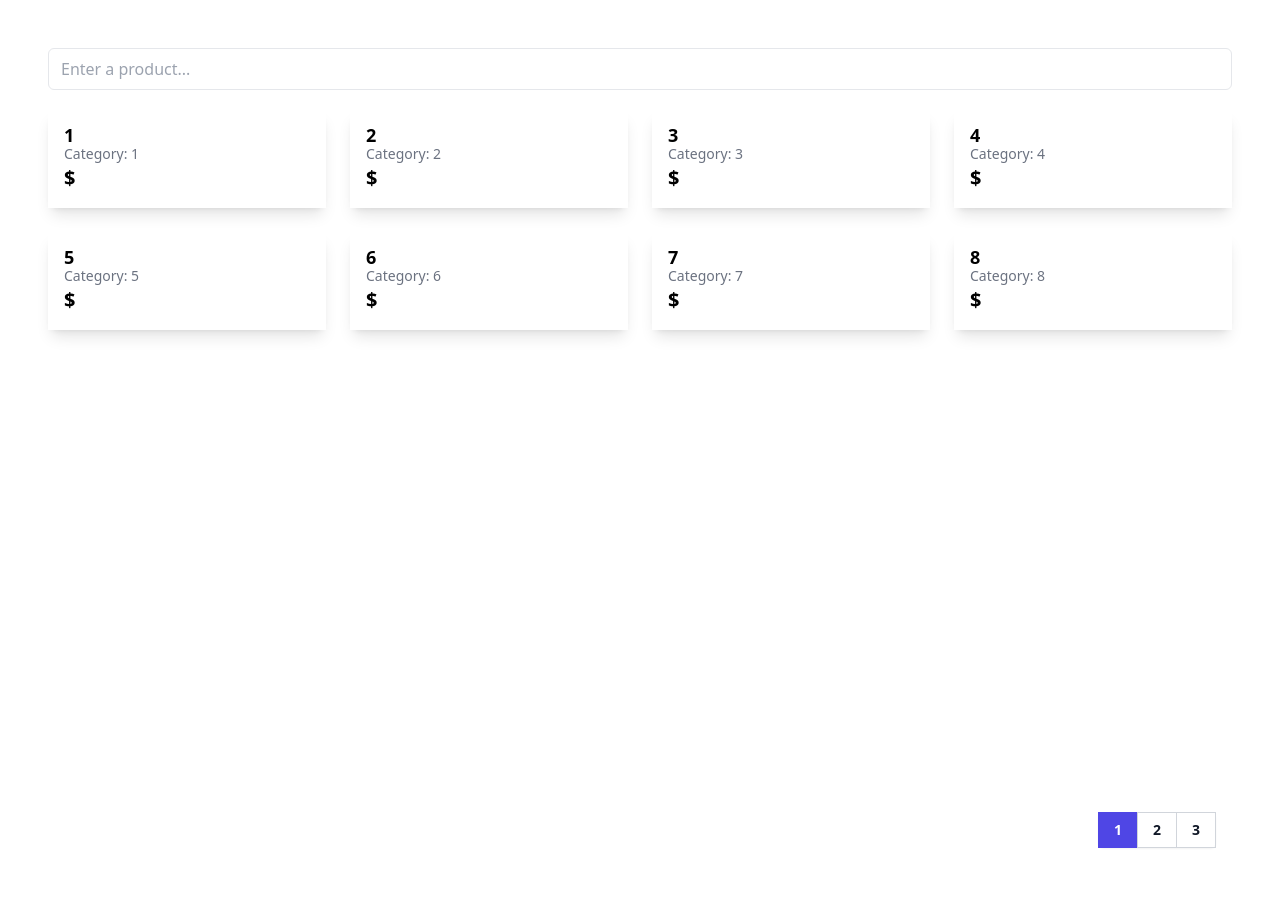
Test: homepage › click on the specific page will change displayed values
The image size is (1280, 900).
Click the button with test id "pagination-number-2" at (1157, 830), box left=1137, top=812, right=1177, bottom=848
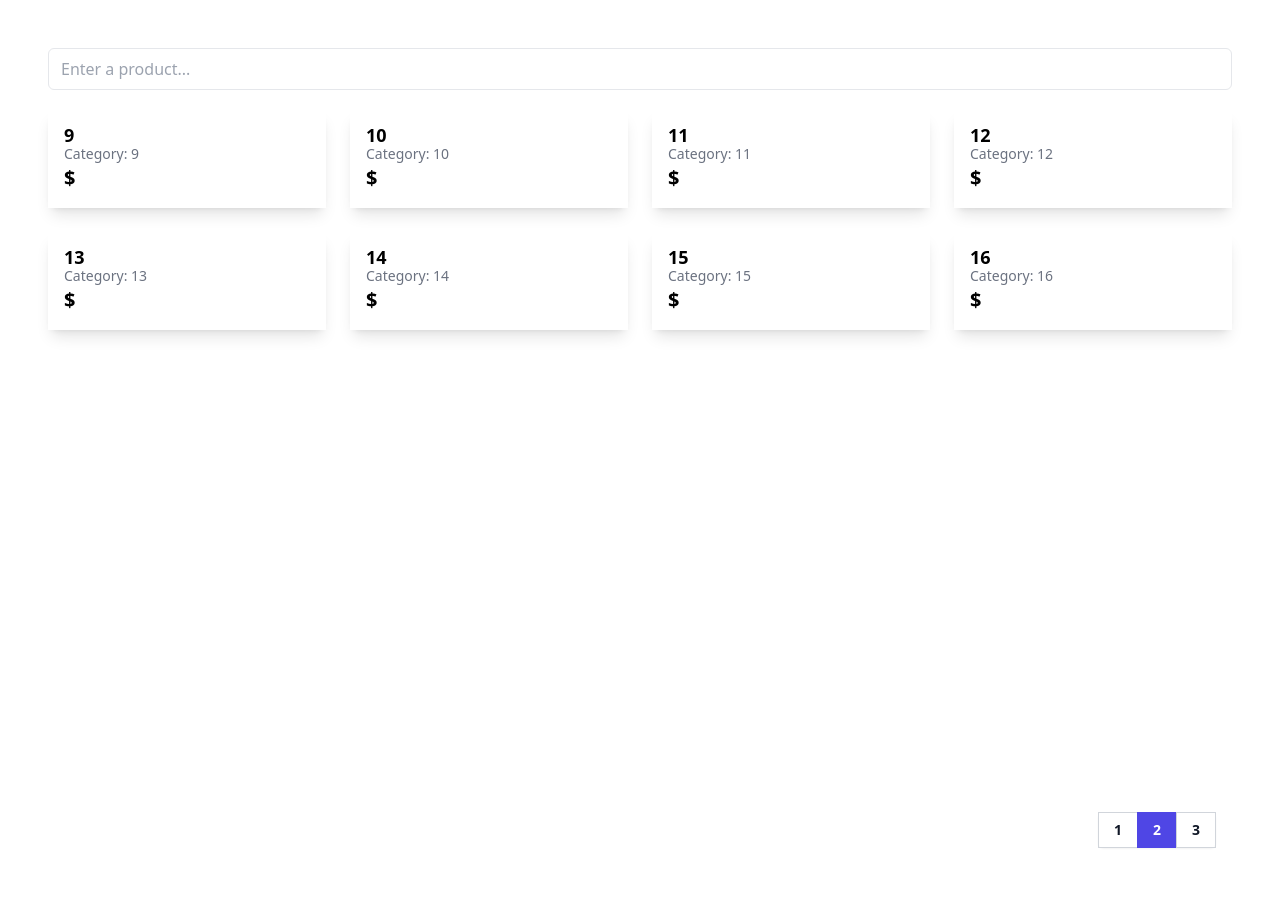
Expected: the link "Category: 2" is gone
Expected: the text "Category: 9" is shown, left=64, top=144, right=139, bottom=163
Expected: the text "Category: 10" is shown, left=366, top=144, right=449, bottom=163
